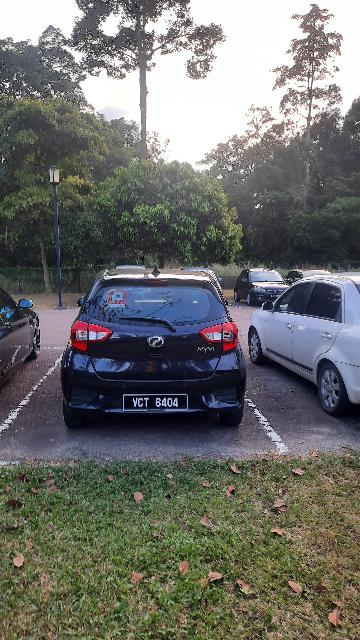License_Plate: (121, 391, 191, 415), (269, 295, 285, 299)
car: (60, 268, 249, 431), (247, 273, 360, 419), (2, 281, 45, 408), (236, 269, 297, 307)
